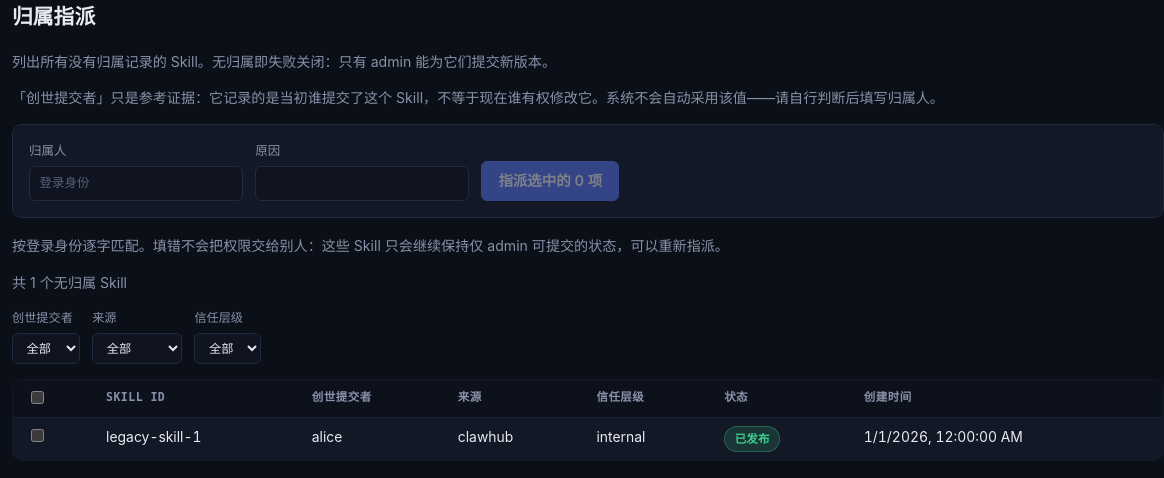
Test: AdminOwnershipPage › cannot assign until an owner and a reason are both typed
Click the checkbox named "legacy-skill-1" at (37, 436), box [31,429,44,442]
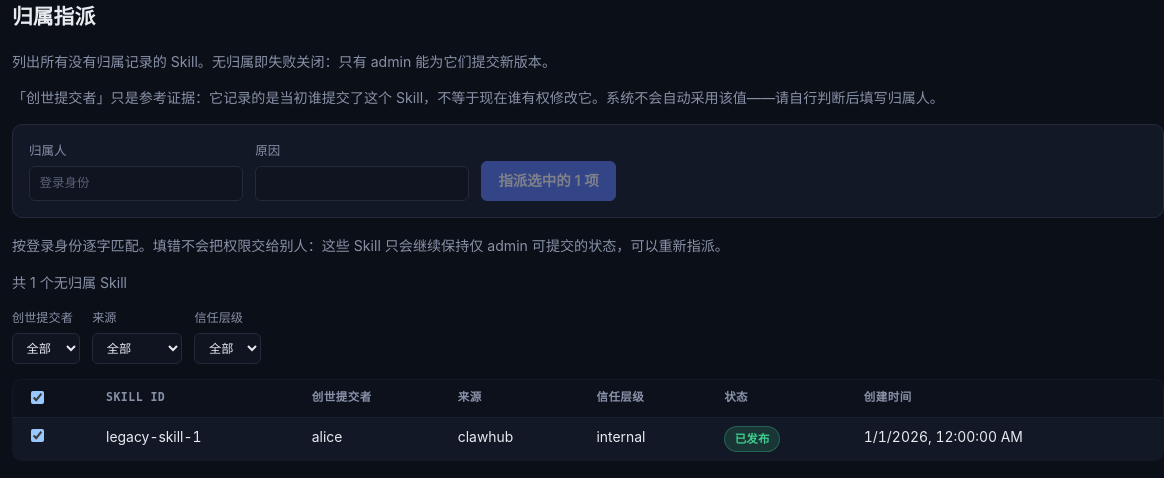
Expected: the button "指派选中的 1 项" is disabled, [481,161,616,201]
Type "alice" into the field with placeholder "登录身份" at (136, 183), box [29,166,243,200]
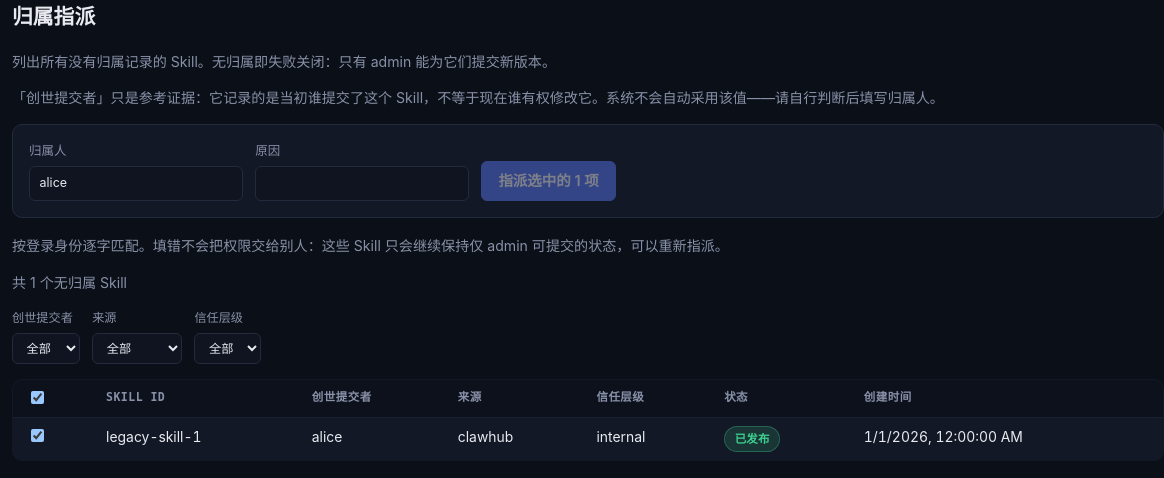
Expected: the button "指派选中的 1 项" is disabled, [481,161,616,201]
Type "verified with the team" into the field labelled "原因" at (362, 183), box [255,166,469,200]
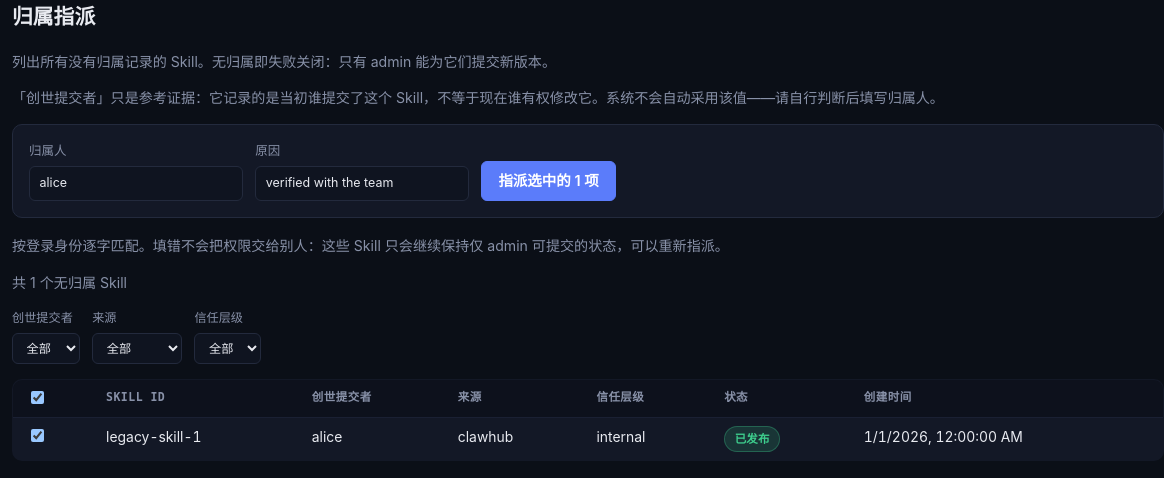
Expected: the button "指派选中的 1 项" is enabled, [481,161,616,201]
